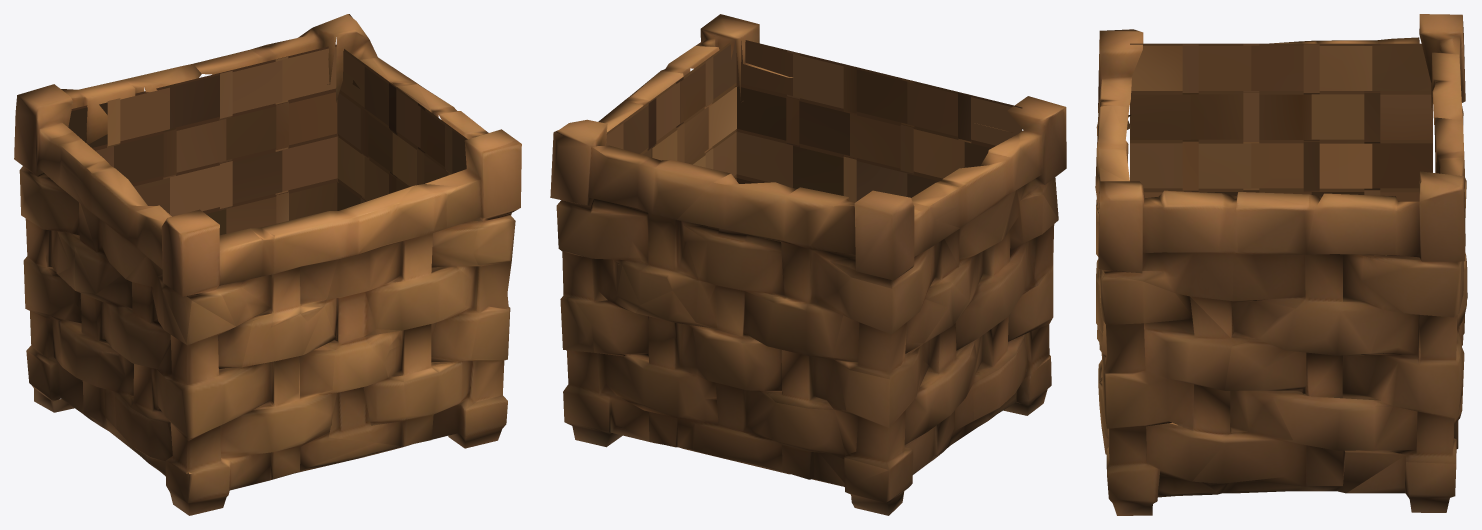
Rendered from basket.glb.
3 views of the same model, side by side, from view 1: azimuth 30°, elevation 25°; view 2: azimuth 150°, elevation 25°; view 3: azimuth 270°, elevation 25° (orthographic). The views are drawn at different scales.
Parts seen in each view (by area): view 1: Basket shell with complete interior; view 2: Basket shell with complete interior; view 3: Basket shell with complete interior.
Part boxes in pixels (<box>): Basket shell with complete interior: <box>14,14,521,515</box>; Basket shell with complete interior: <box>550,14,1066,515</box>; Basket shell with complete interior: <box>1095,14,1467,515</box>.
Size of the model in its own units: 0.32 by 0.2774 by 0.28.
2 materials, 2 textured.
